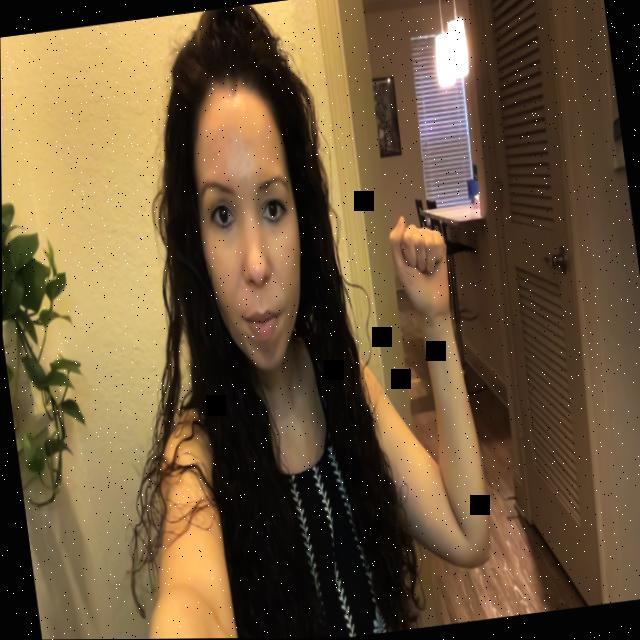Rock: (383, 200, 462, 326)
